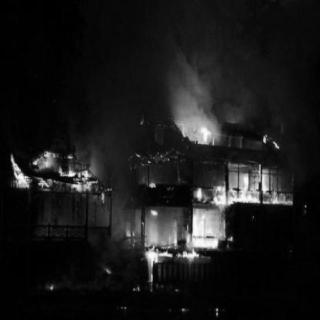Fire: (192, 160, 294, 202)
